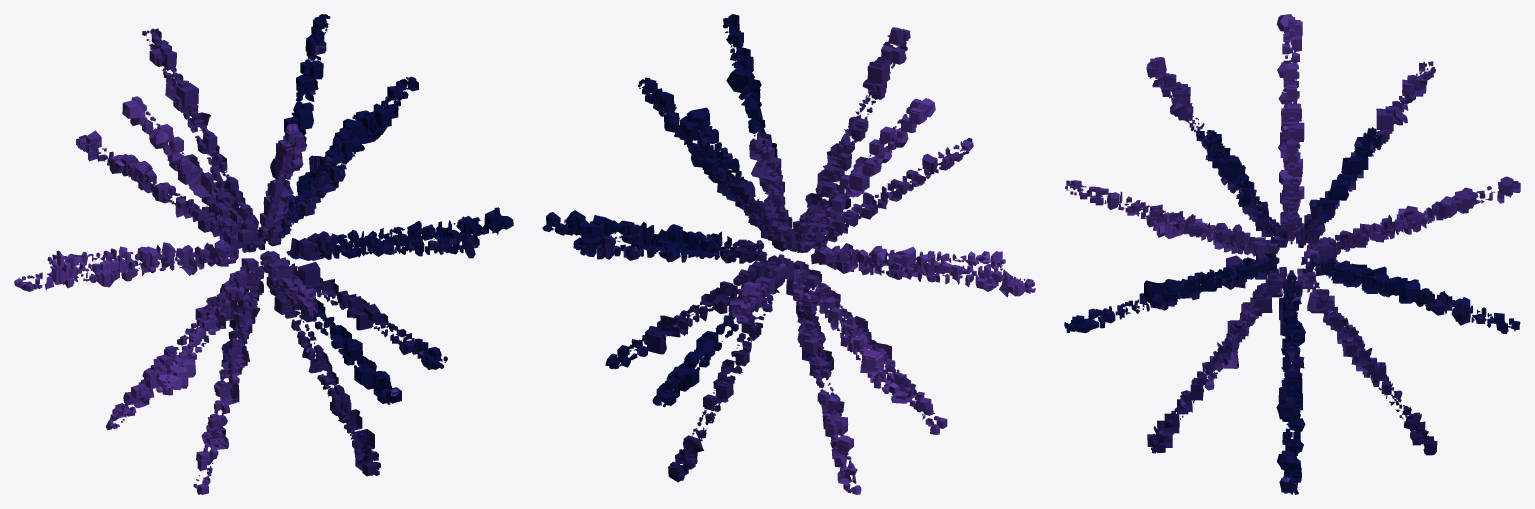
The model's file is sci-fi-structure-one.glb.
3 views of the same model, side by side, from view 1: azimuth 30°, elevation 25°; view 2: azimuth 150°, elevation 25°; view 3: azimuth 270°, elevation 25° (orthographic). The views are drawn at different scales.
Visible parts, largest first — view 1: Icosphere; view 2: Icosphere; view 3: Icosphere.
Boxes of the visible parts, box(x1,y1,x2,y2) form: Icosphere: box(14, 14, 513, 494); Icosphere: box(542, 14, 1035, 494); Icosphere: box(1064, 14, 1520, 494).
Size of the model in its own units: 29.54 by 24.58 by 28.21.
1 material, 1 textured.
